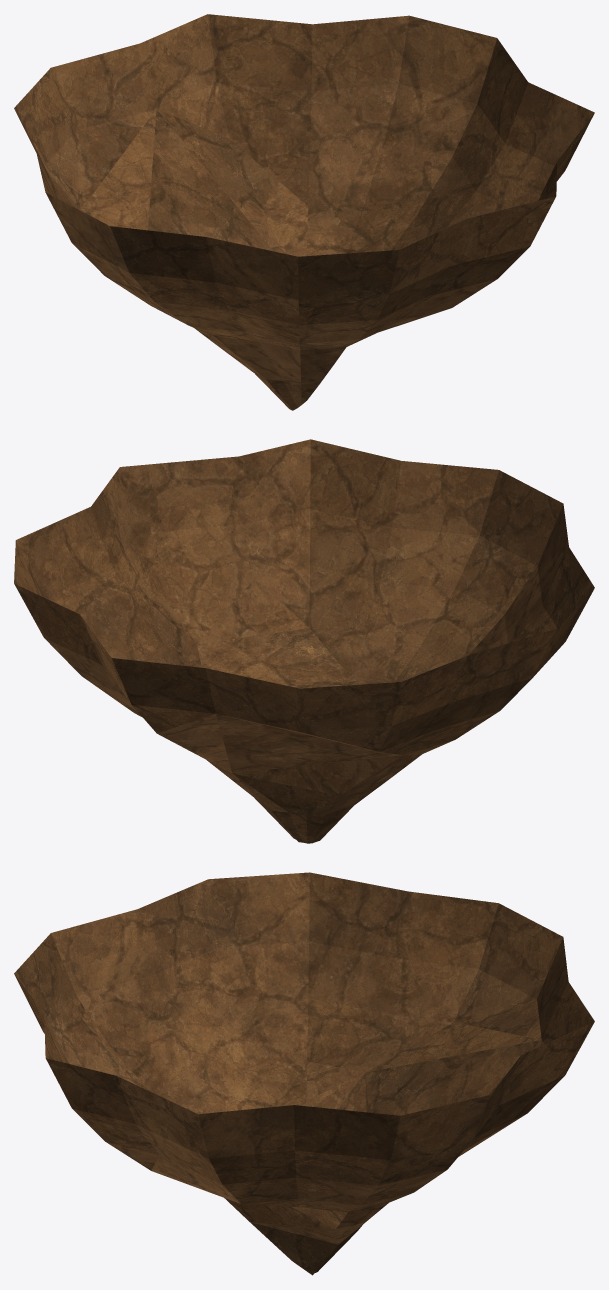
File: piattaforma_scoscesa1.fbx
3 renders of one model, top to bottom at view 1: azimuth 30°, elevation 25°; view 2: azimuth 150°, elevation 25°; view 3: azimuth 270°, elevation 25°, orthographic.
Visible parts, largest first — view 1: ground1; view 2: ground1; view 3: ground1.
Boxes of the visible parts, x1,y1,x2,y2 form: ground1: (14, 14, 594, 410); ground1: (14, 439, 594, 843); ground1: (14, 872, 594, 1275).
Size of the model in its own units: 366 by 192 by 369.
